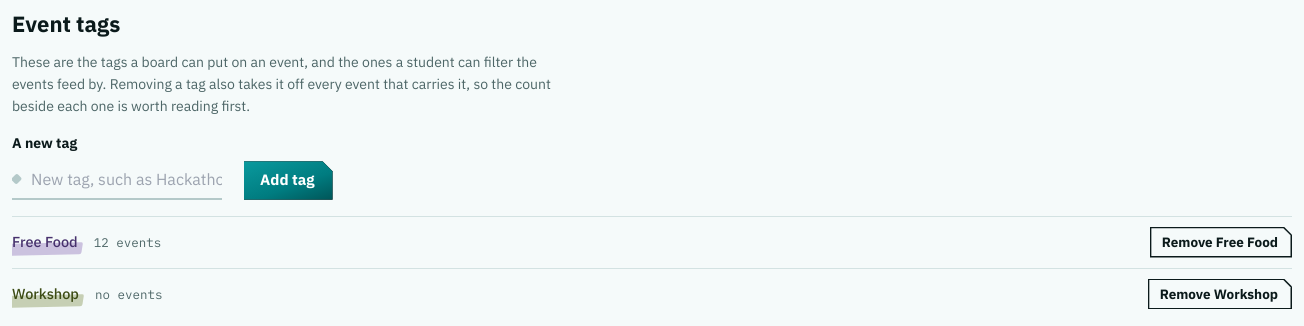
Scenario: TagManager › says what removing a tag will do to the events that carry it
Click the button "Remove Free Food" at (1221, 242), box [1150,227,1292,258]
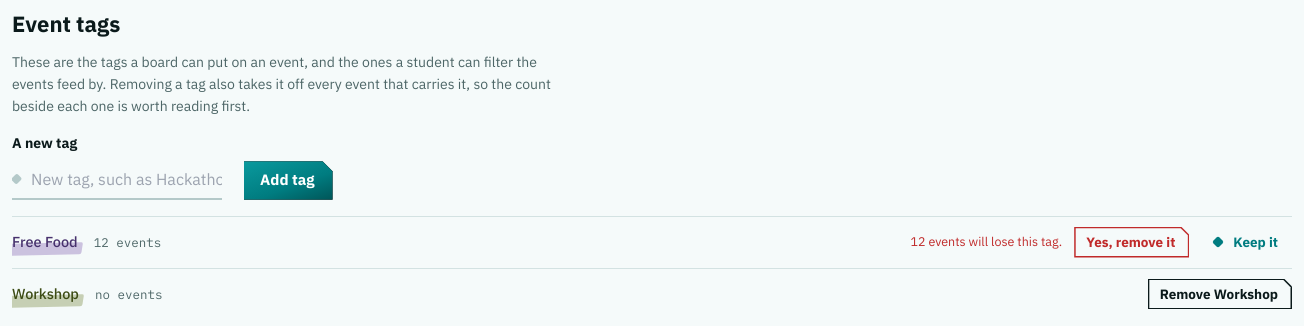
Expected: the text "12 events will lose this tag." is shown, [910,232,1062,252]
